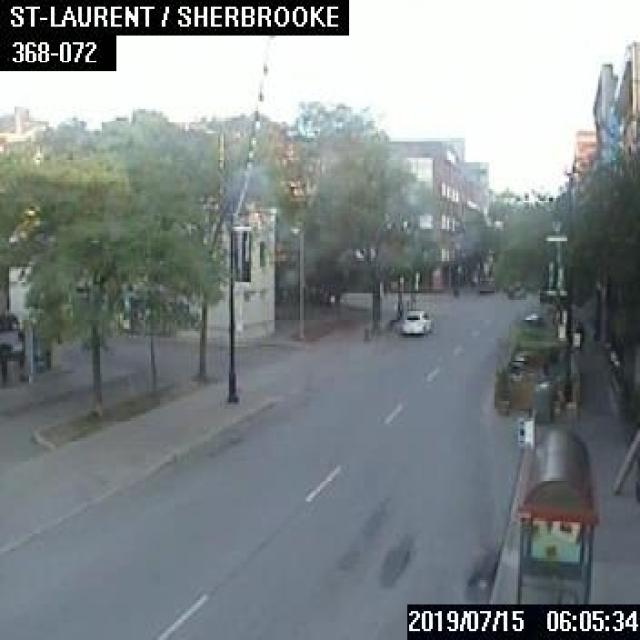vehicle: (400, 306, 429, 336)
